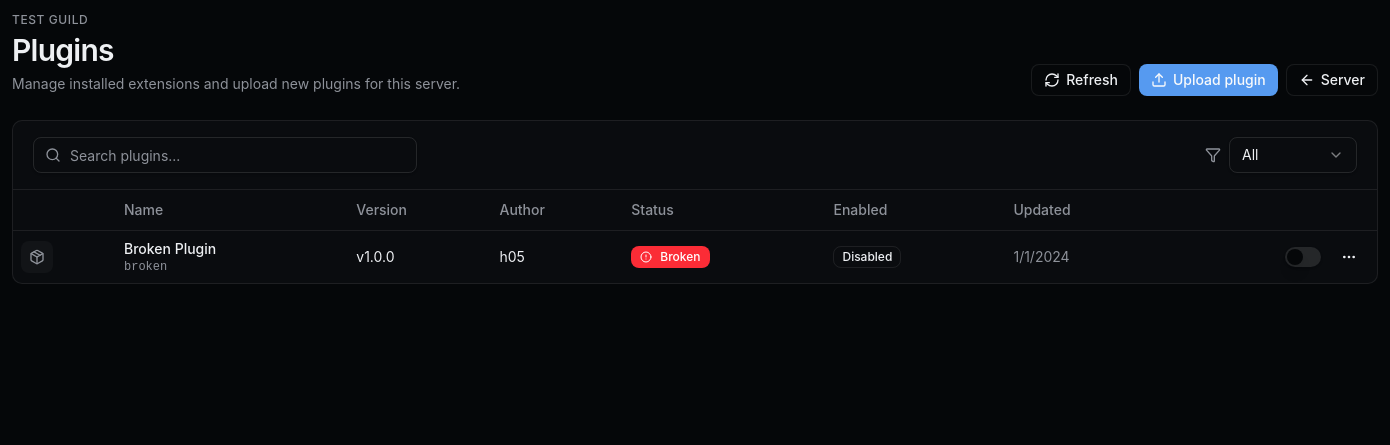
Test: GuildPluginsPage › shows a broken status and disables manage for broken plugins
Expected: the text "Broken" is shown, [631,246,710,268]
Step 1. Click the button named "actions for broken plugin" → coordinates (1349, 256), box [1329,240,1369,272]
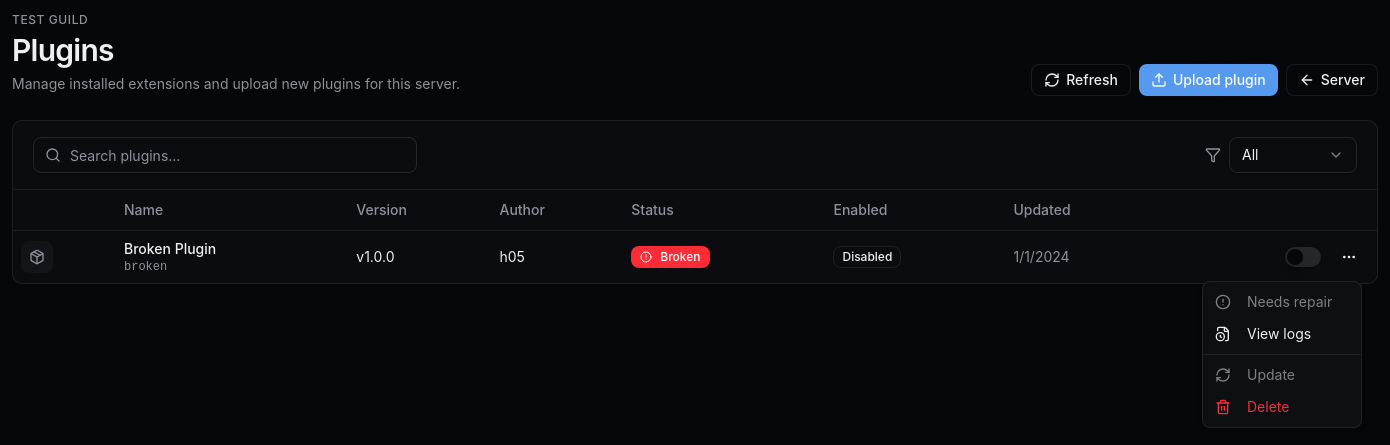
Result: the menu item "Needs repair" is shown at [1215,293,1332,310]
